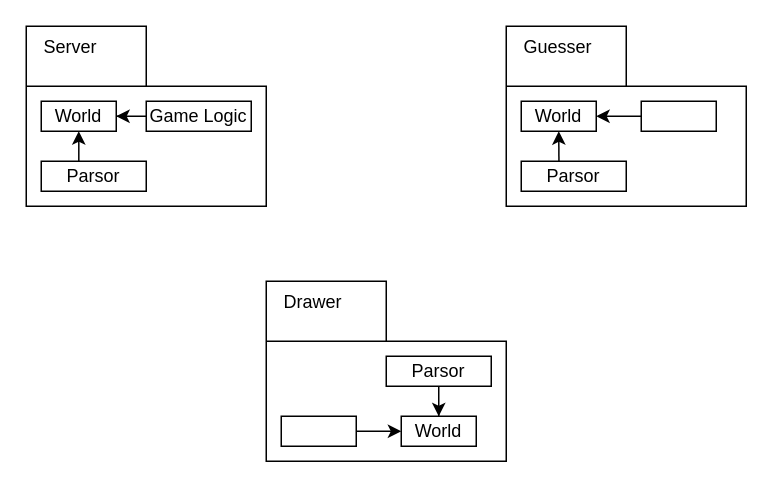
This 773x488 diagram has some shape labels left out. Each missing label, with the centre of its shape:
Drawing: [318,430]
Guess: [678,115]
